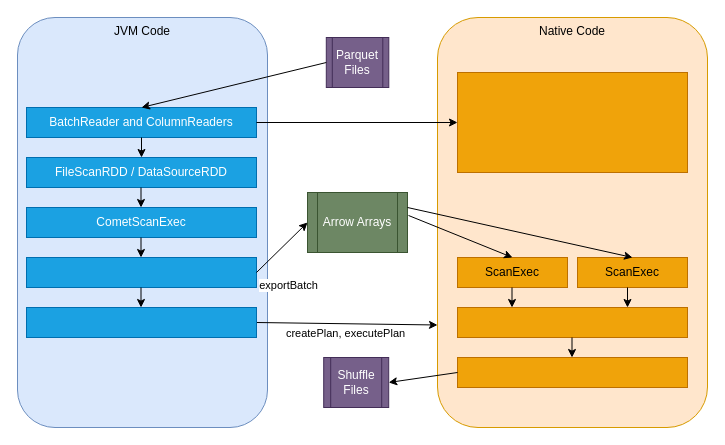
Image size: 725x445. Some labels were removed from this diagram. Each missing label, with the centre of its shape:
CometBatchIterator: pixel 141 272
CometExecIterator: pixel 141 322
Other Native Operators: pixel 572 322
Parquet Native resetBatch() readBatch() currentBatch(): pixel 572 122
ShuffleWriterExec: pixel 572 372
